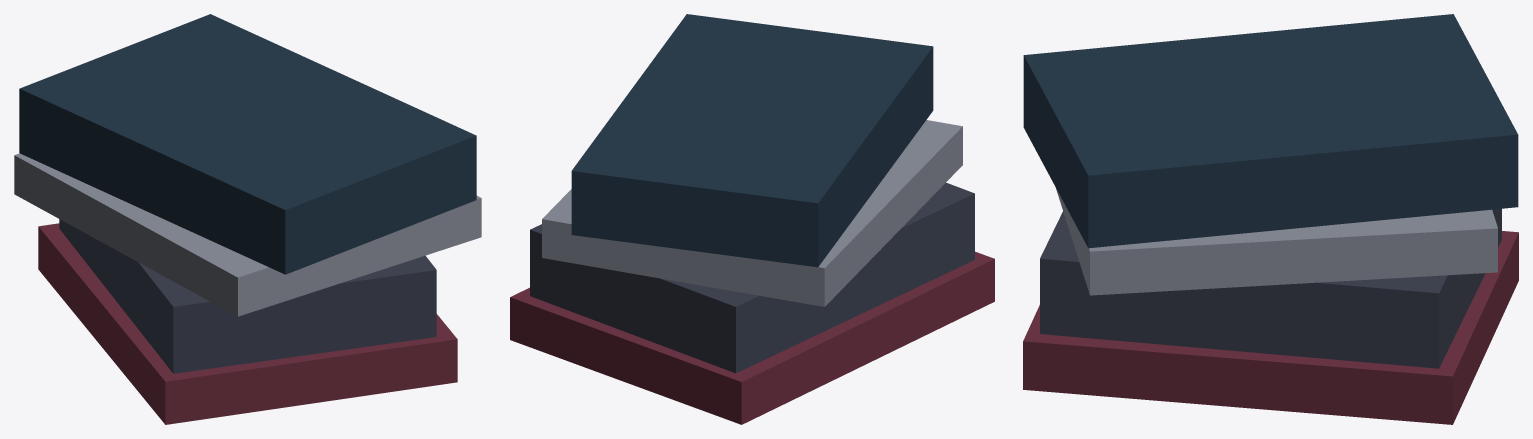
The model's file is Deco_BookStack.gltf.
3 views of the same model, side by side, from view 1: azimuth 30°, elevation 25°; view 2: azimuth 150°, elevation 25°; view 3: azimuth 270°, elevation 25° (orthographic). The views are drawn at different scales.
Parts seen in each view (by area): view 1: Deco_BookStack; view 2: Deco_BookStack; view 3: Deco_BookStack.
Boxes of the visible parts, x1,y1,x2,y2 form: Deco_BookStack: (14, 14, 481, 424); Deco_BookStack: (510, 14, 994, 424); Deco_BookStack: (1023, 14, 1518, 424).
Bounding box in the file's own units: 0.2697 × 0.1686 × 0.3151.
